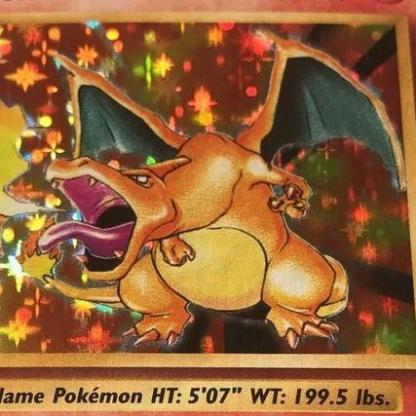Charizard: (10, 45, 395, 354)
